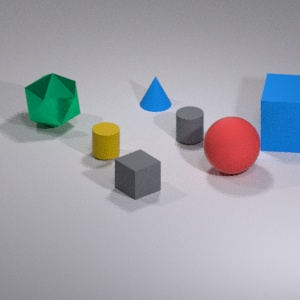lapphuong: (253, 64, 300, 159), (108, 147, 167, 203)
lucgiac: (24, 72, 84, 131)
non: (136, 69, 173, 120)
tron: (198, 110, 261, 180)
tru: (175, 104, 206, 153), (91, 119, 120, 165)
